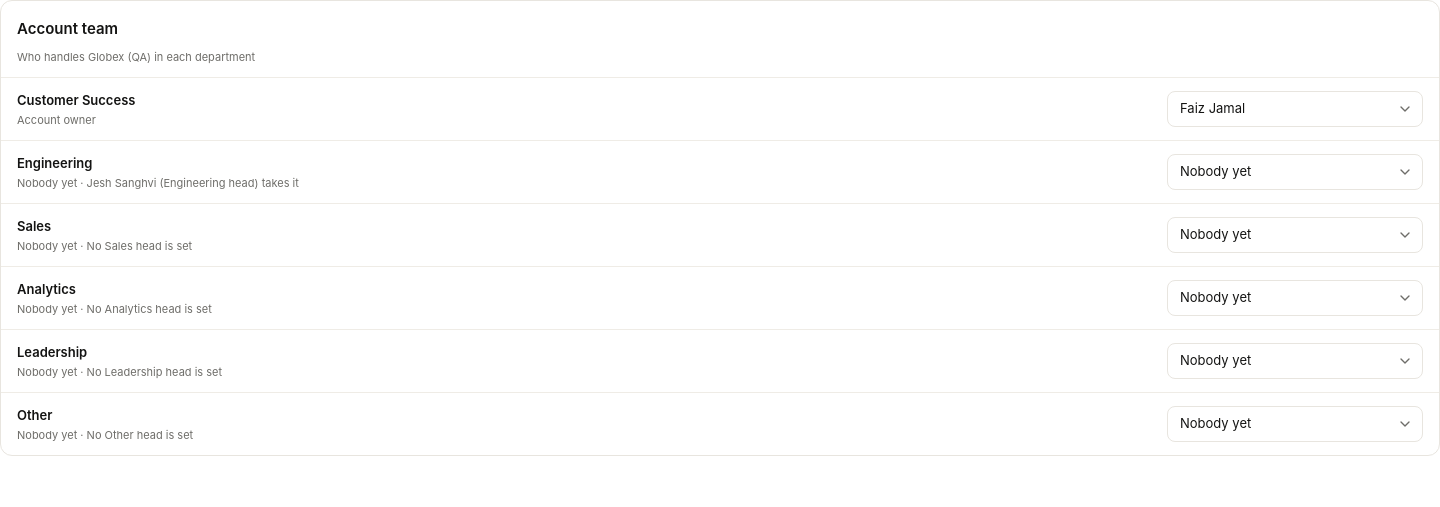
Test: AccountTeamCard (Slack escalations D2, spec §4.4) › shows a refusal under its row
Select "Jesh Sanghvi" in the 2nd dropdown named "Engineering on the account team" at (1295,172), box [1167,154,1423,190]
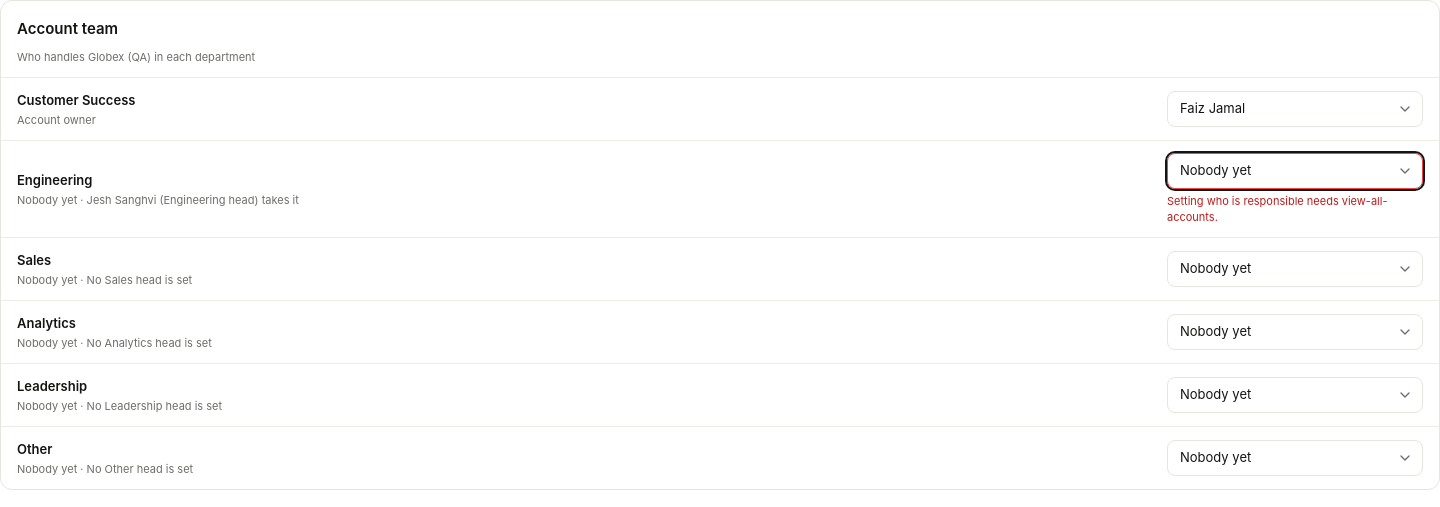
Check: the message reads "Setting who is responsible needs view-all-accounts.", box [1167,194,1388,224]
